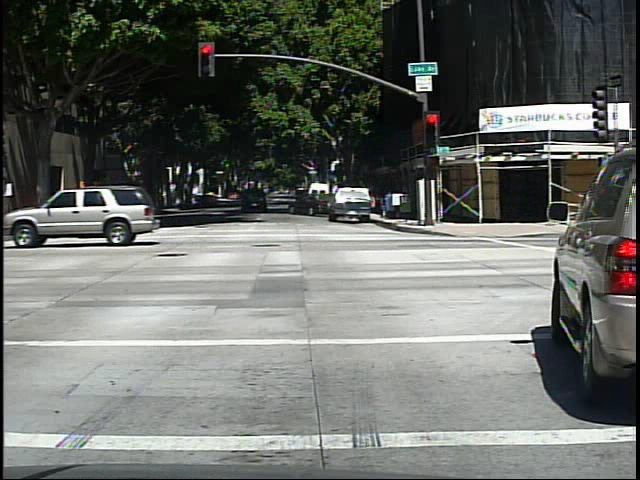person: (70, 187, 86, 223)
